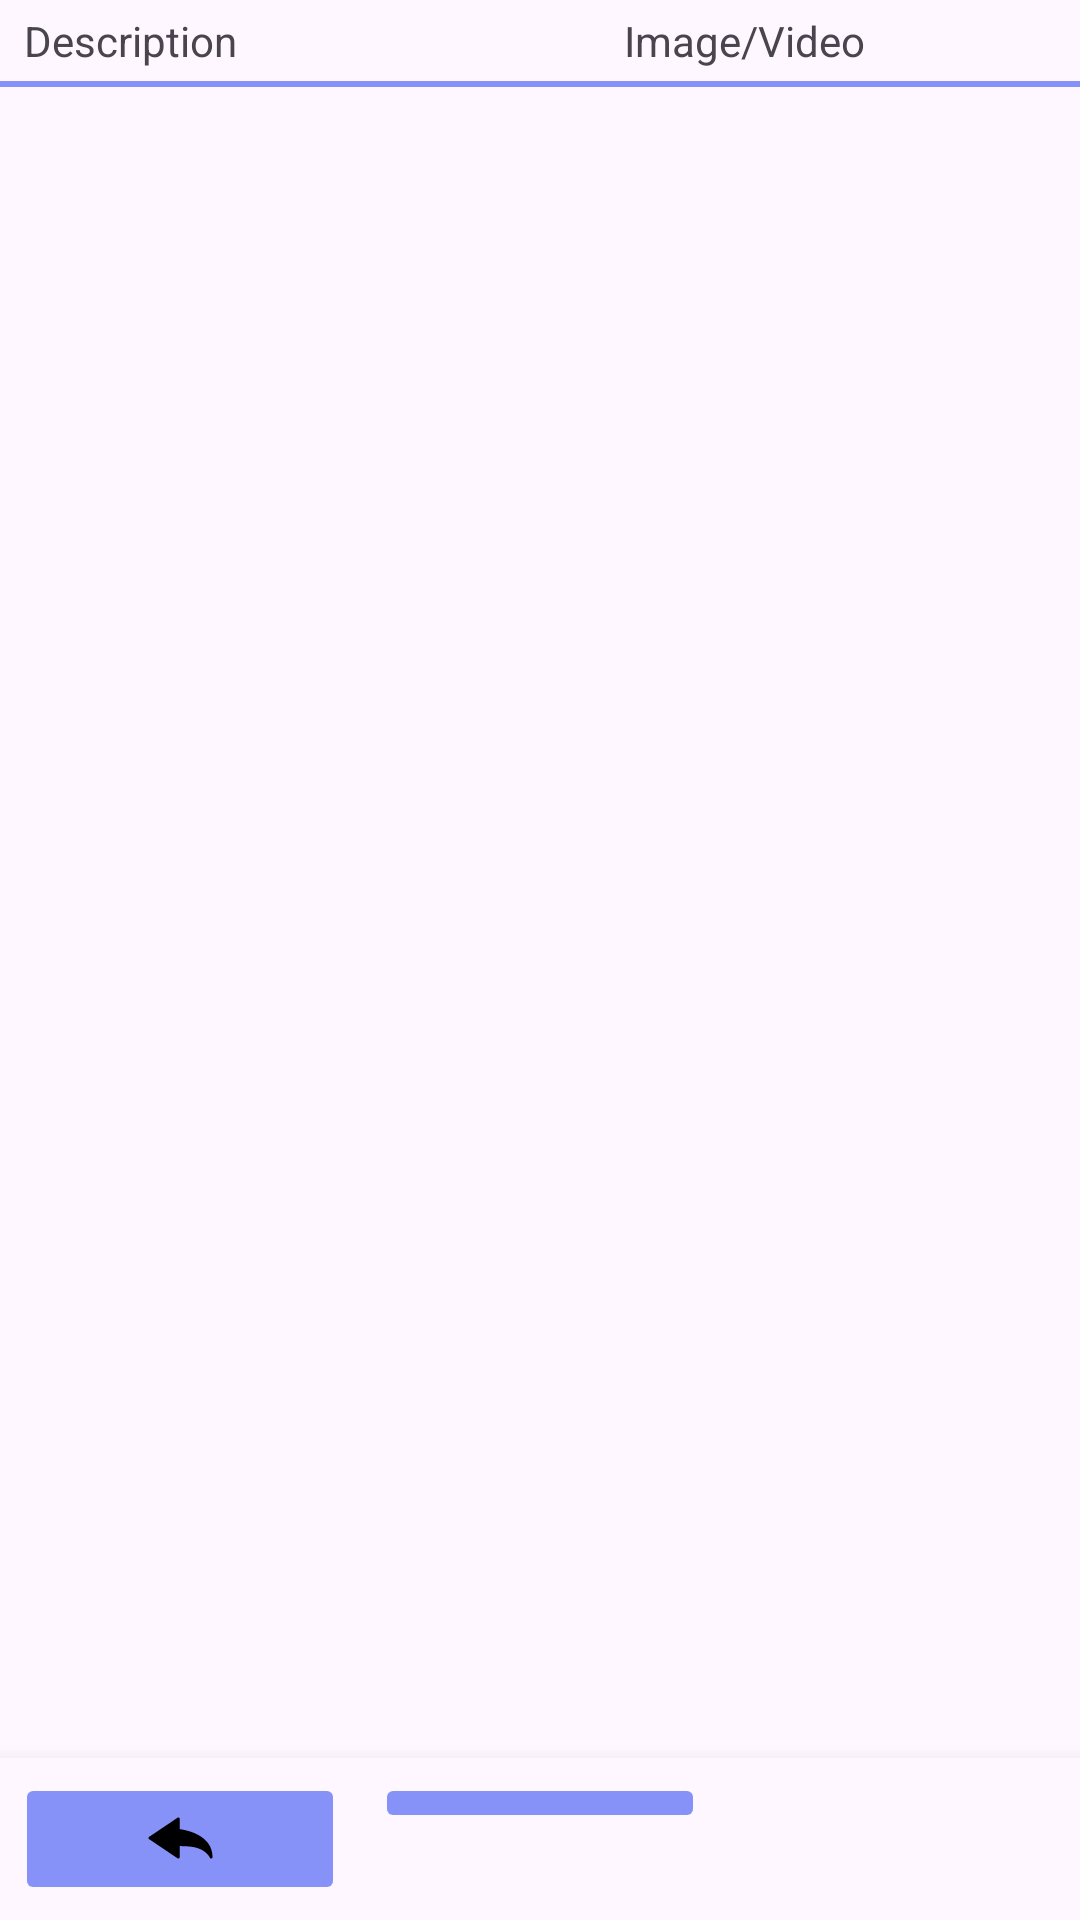

Locate icon controls on the screen. Image size 1080w x 1920h, boxes as (x1, y1, x2, y2).
Back: (27, 1791, 333, 1887)
